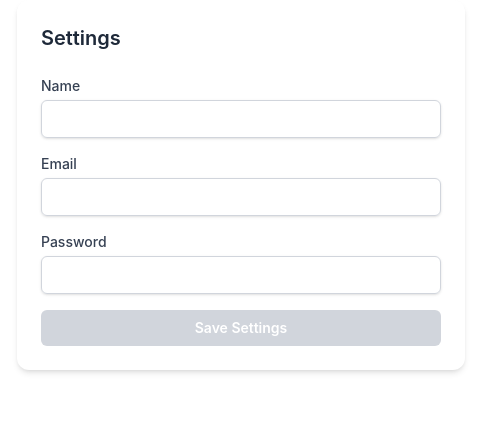
Test: SettingsForm › logs data and shows success message on valid submit
The width and height of the screenshot is (483, 443).
Type "Ada Lovelace" into the field labelled "Name".
click(241, 119); type("Ada Lovelace")  # box [41,100,441,138]
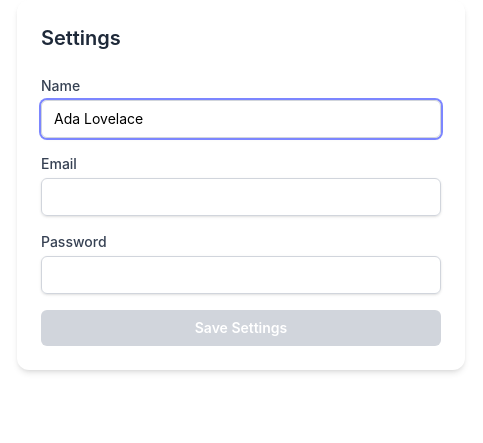
Type "ada@example.com" into the field labelled "Email".
click(241, 197); type("ada@example.com")  # box [41,178,441,216]
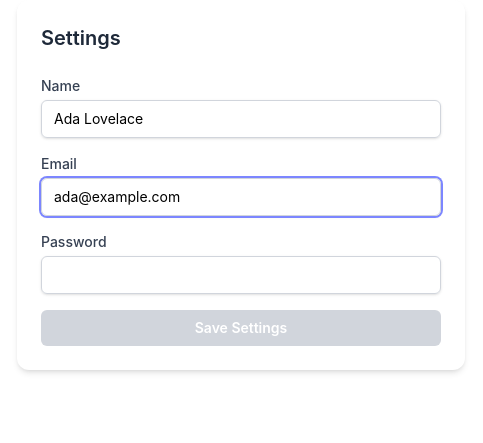
Type "secret123" into the password field labelled "Password".
click(241, 275); type("secret123")  # box [41,256,441,294]
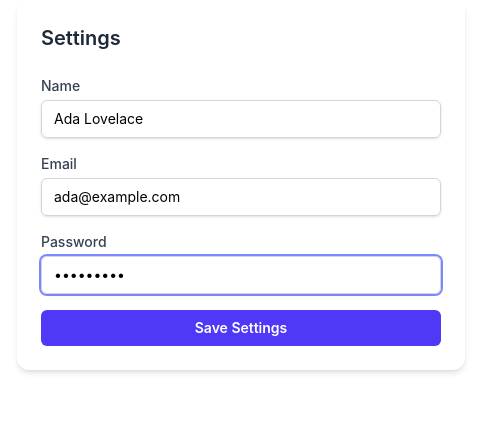
Click the button "Save Settings".
click(241, 328)  # box [41,310,441,346]
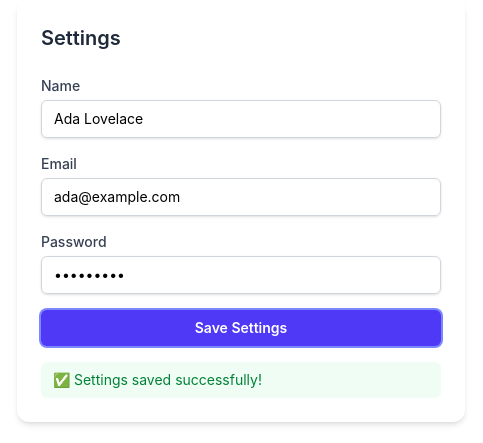
Expected: the message shows "saved successfully", [53,371,262,388]
